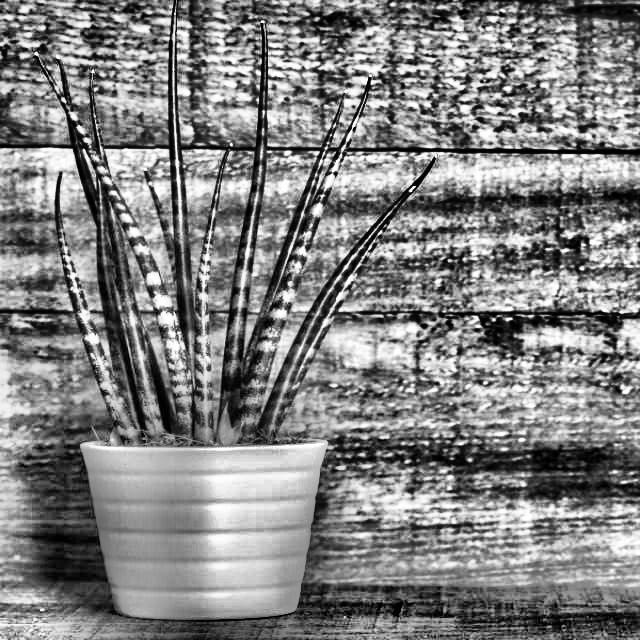plants: (24, 47, 401, 608)
